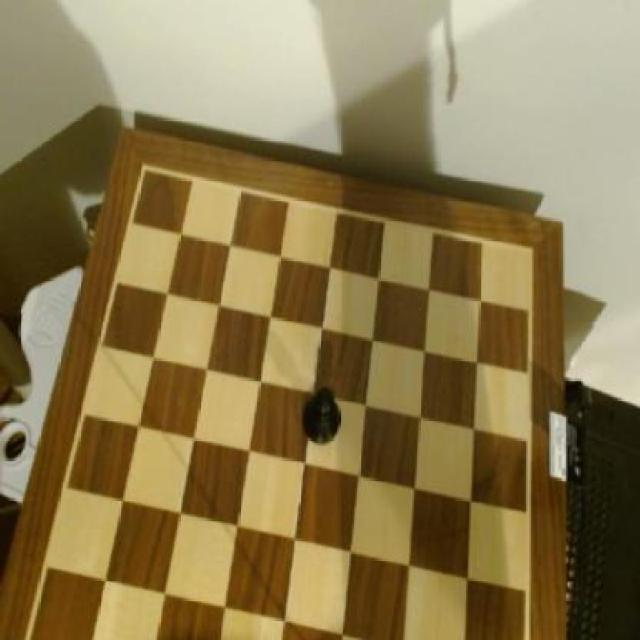black-knight: (302, 383, 342, 444)
